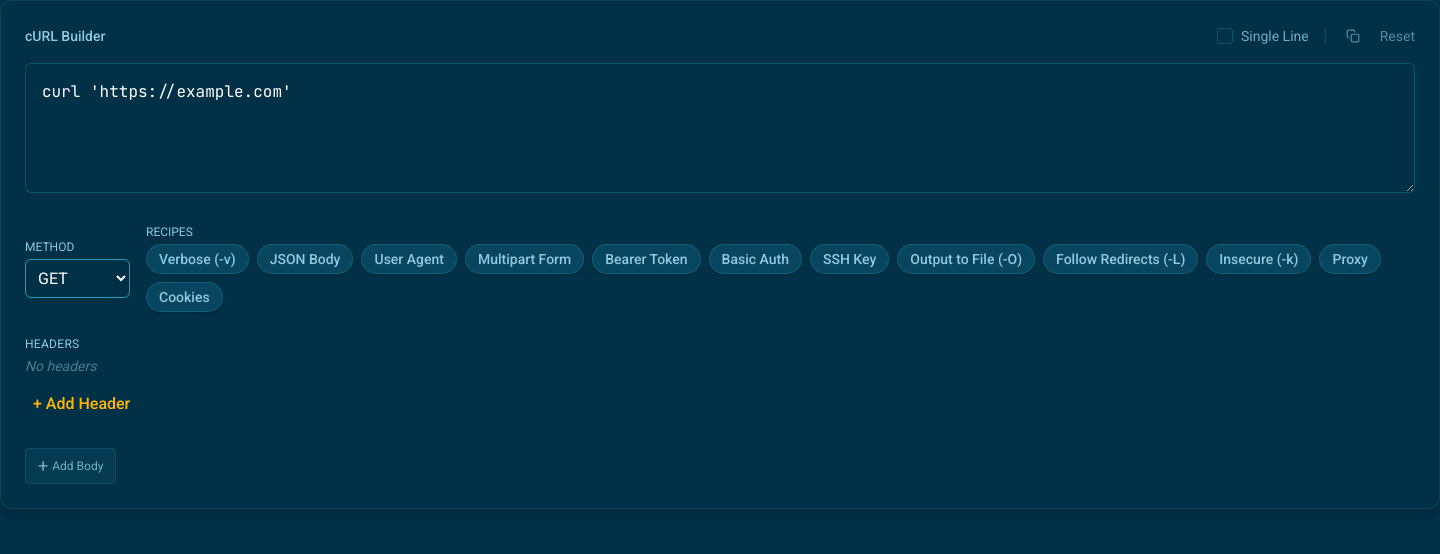
Test: CurlBuilder › Textual Editing › should show error message for invalid cURL and not update state
The width and height of the screenshot is (1440, 554).
Type "not a curl command" into the text box with placeholder "curl 'https://example.com'".
click(720, 128); type("not a curl command")  # box [25,63,1415,193]
Wait 500 ms
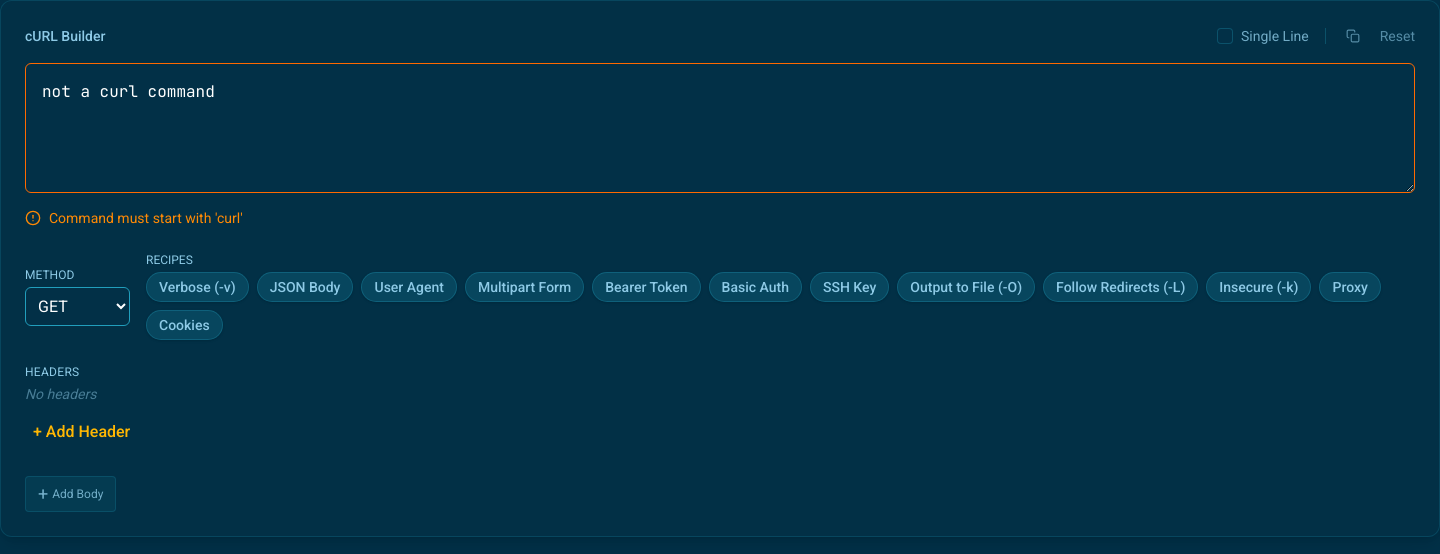
Now the text "Command must start with 'curl'" is shown, box [49,208,243,228]
